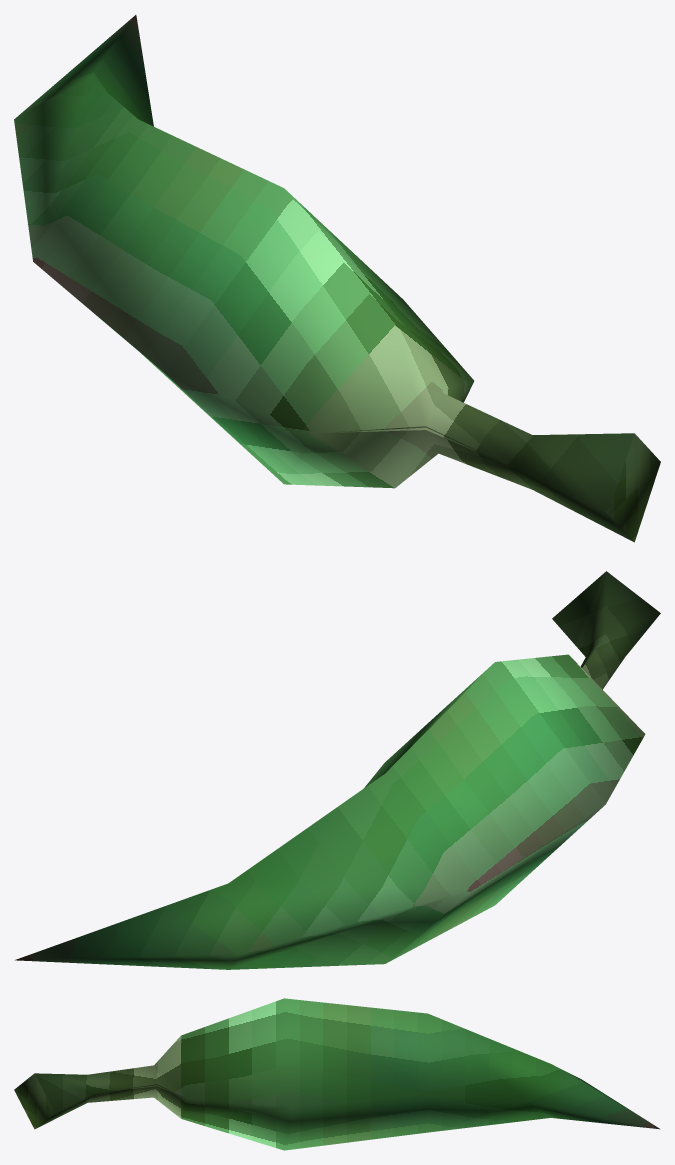
Rendered from sulgreengochu.glb.
3 renders of one model, top to bottom at view 1: azimuth 30°, elevation 25°; view 2: azimuth 150°, elevation 25°; view 3: azimuth 270°, elevation 25°, orthographic. The views are drawn at different scales.
Visible parts, largest first — view 1: model_sulgreengochu; view 2: model_sulgreengochu; view 3: model_sulgreengochu.
Boxes of the visible parts, x1,y1,x2,y2 form: model_sulgreengochu: [14, 15, 660, 542]; model_sulgreengochu: [15, 571, 660, 969]; model_sulgreengochu: [14, 998, 660, 1150].
Bounding box in the file's own units: 0.0727 × 0.0595 × 0.2293.
1 material, 1 textured.
